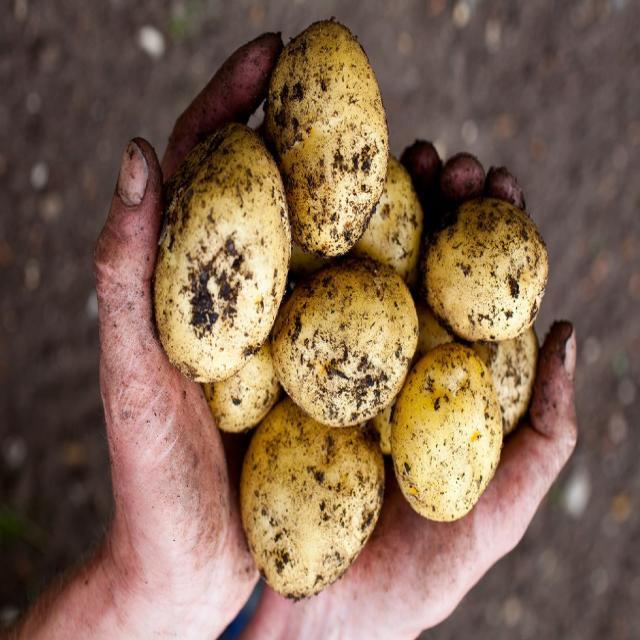potato: (155, 128, 283, 385), (266, 24, 389, 259), (243, 407, 379, 599), (273, 271, 414, 424), (430, 195, 548, 344), (396, 344, 487, 524), (370, 327, 453, 470), (474, 319, 544, 433), (360, 164, 429, 274), (211, 348, 278, 437)
